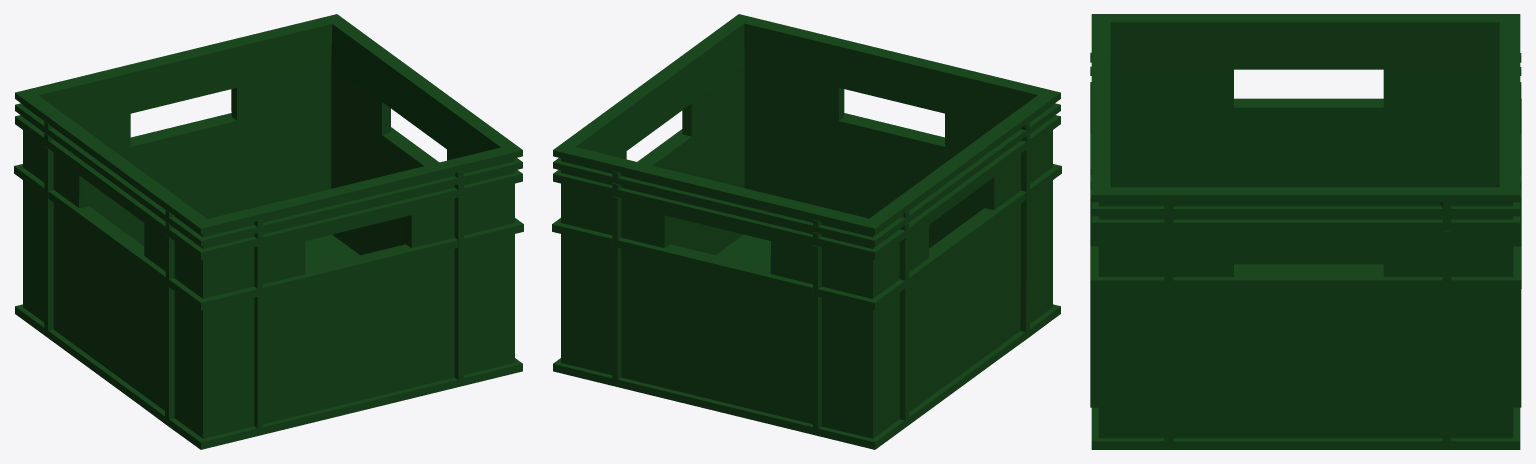
File: Eden_soju_basket.fbx
3 views of the same model, side by side, from view 1: azimuth 30°, elevation 25°; view 2: azimuth 150°, elevation 25°; view 3: azimuth 270°, elevation 25° (orthographic). The views are drawn at different scales.
Visible parts, largest first — view 1: polySurface66; view 2: polySurface66; view 3: polySurface66.
Boxes of the visible parts, x1,y1,x2,y2 form: polySurface66: [14, 14, 523, 449]; polySurface66: [552, 14, 1061, 449]; polySurface66: [1090, 14, 1521, 449].
Bounding box in the file's own units: 0.0189 × 0.0124 × 0.0189.
Materials: 1 (1 with a texture image).
